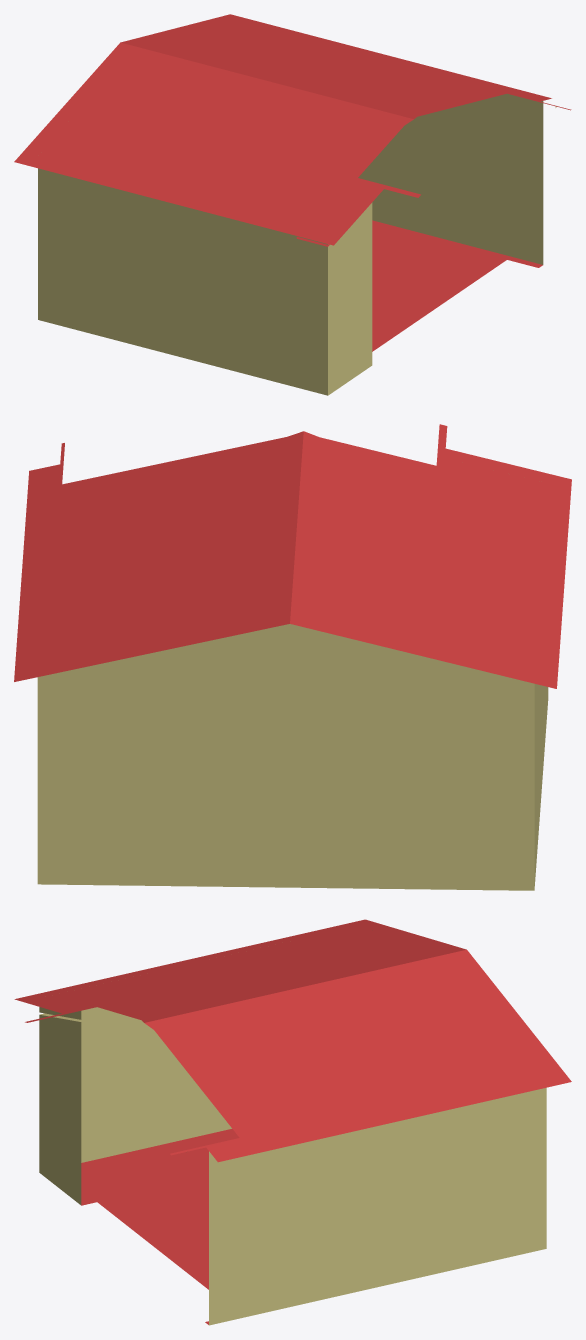
The picture shows the model from 3 angles, top to bottom: view 1: azimuth 30°, elevation 25°; view 2: azimuth 150°, elevation 25°; view 3: azimuth 270°, elevation 25°; orthographic projection. The views are drawn at different scales.
Size of the model in its own units: 23.17 by 22.5 by 9.78.
